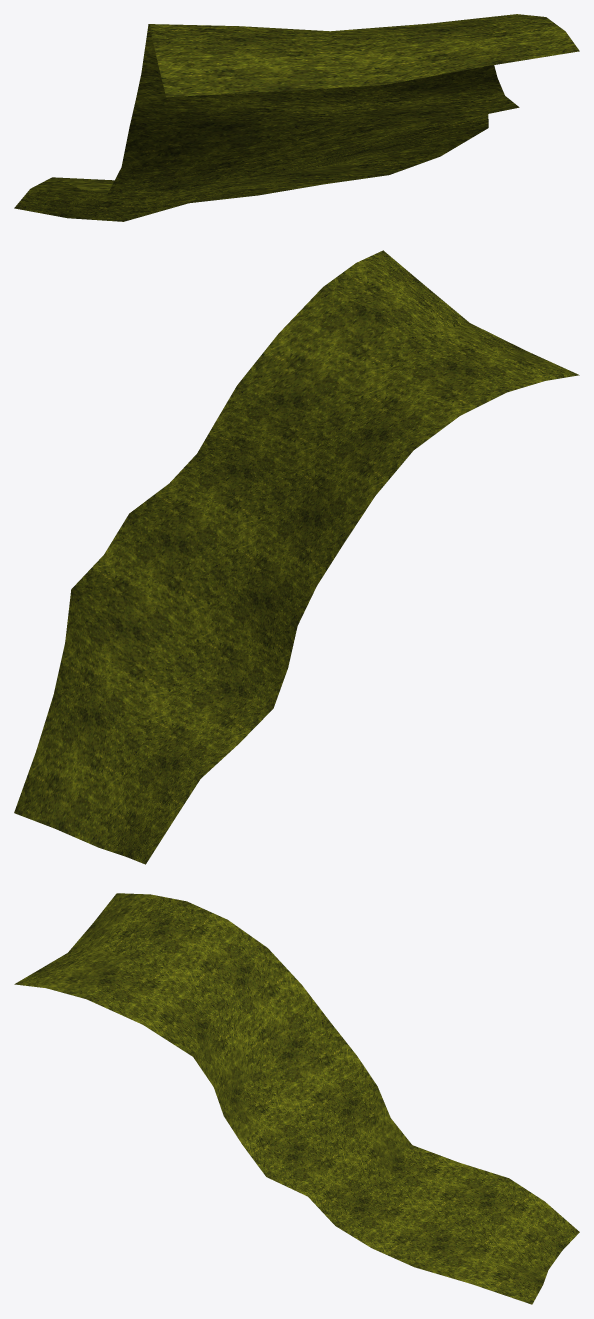
The model's file is TROLLHOLE02_PS-FRONT07.fbx.
3 views of the same model, one above another, from view 1: azimuth 30°, elevation 25°; view 2: azimuth 150°, elevation 25°; view 3: azimuth 270°, elevation 25° (orthographic). The views are drawn at different scales.
Visible parts, largest first — view 1: TROLLHOLE02_PS-FRONT07; view 2: TROLLHOLE02_PS-FRONT07; view 3: TROLLHOLE02_PS-FRONT07.
Part boxes in pixels (left/top/right/bottom): TROLLHOLE02_PS-FRONT07: left=14, top=14, right=579, bottom=221; TROLLHOLE02_PS-FRONT07: left=14, top=250, right=579, bottom=864; TROLLHOLE02_PS-FRONT07: left=14, top=893, right=579, bottom=1304.
Size of the model in its own units: 221933 by 199501 by 342019.
1 material, 1 textured.
